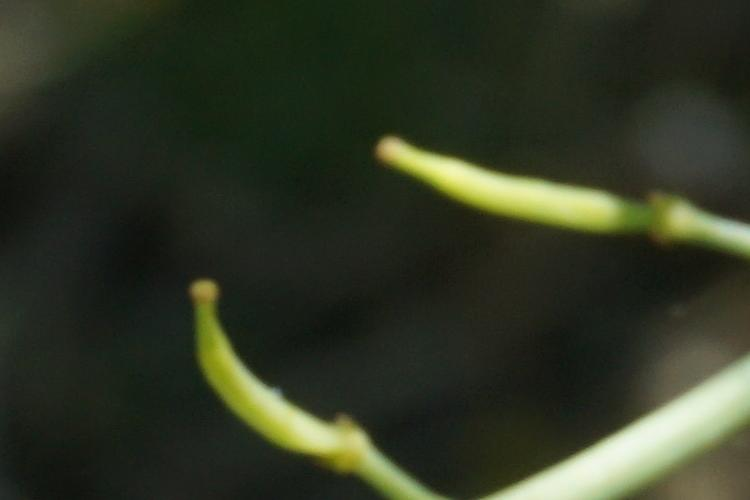pod: (144, 256, 375, 473), (348, 120, 696, 251)
